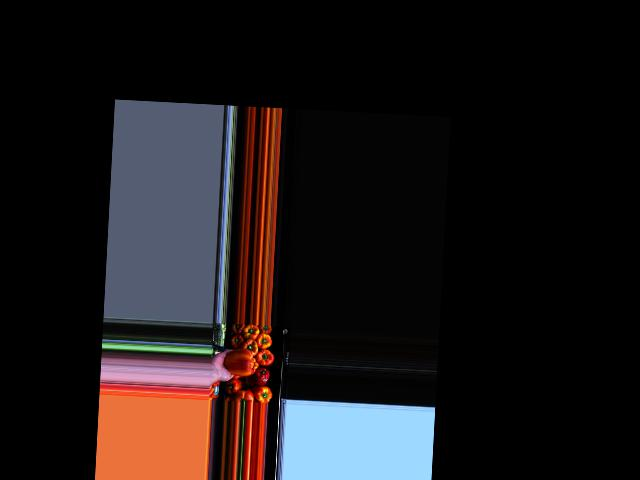bell_pepper: (227, 377, 242, 396)
